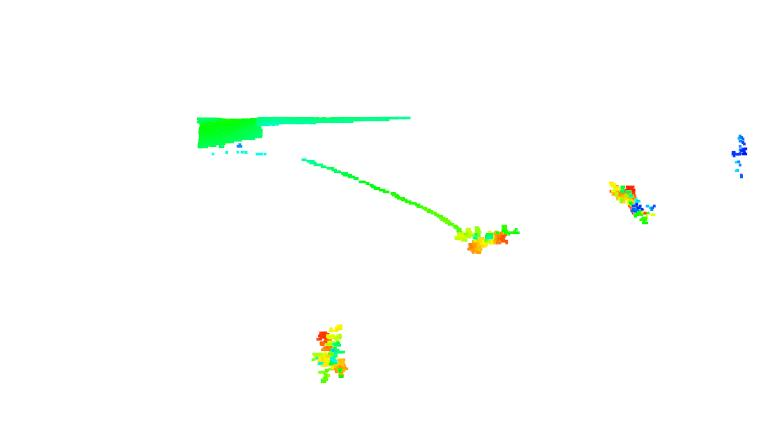chickpea: (307, 319, 351, 388), (604, 176, 658, 227), (456, 218, 520, 258)
